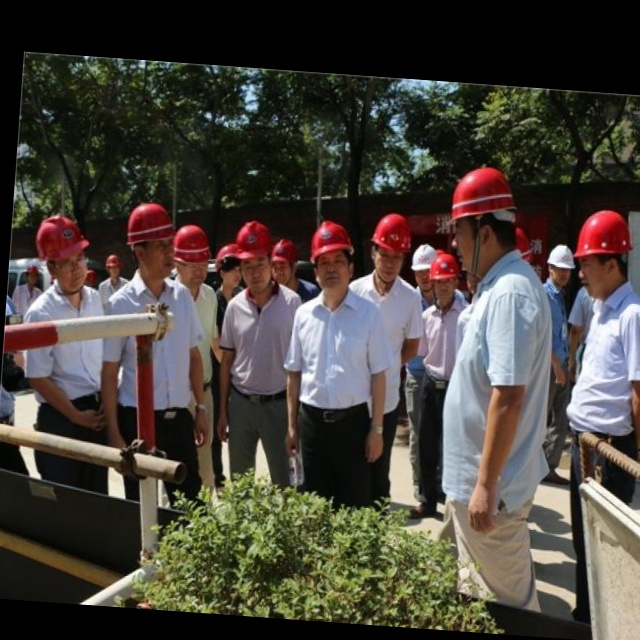Con_Casco: (309, 219, 359, 295), (232, 218, 276, 294)
Sin_Chaleco: (437, 254, 559, 484), (285, 290, 389, 422)
